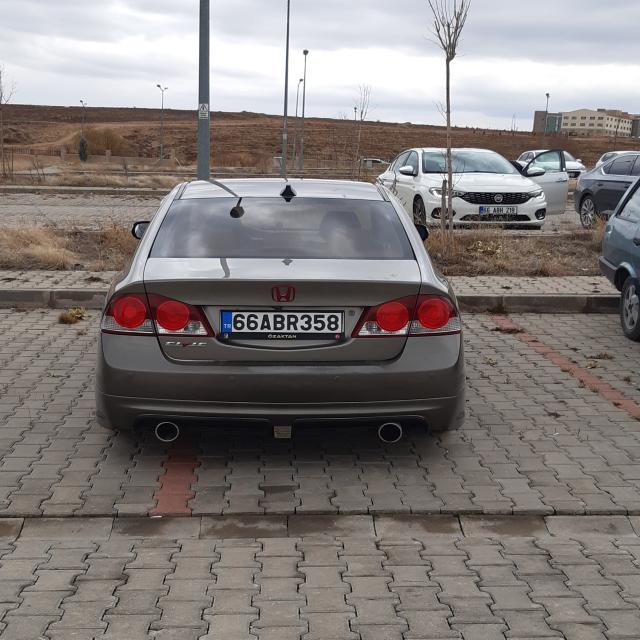license_plate: (223, 312, 343, 334)
